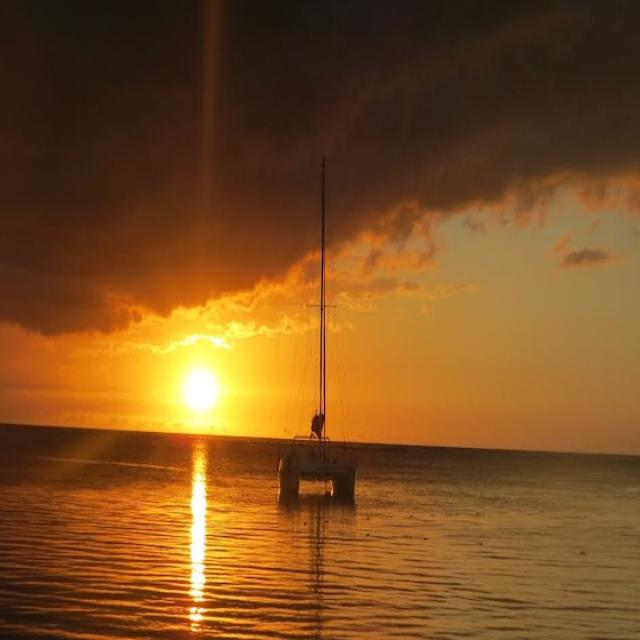Boat: (264, 121, 376, 611)
